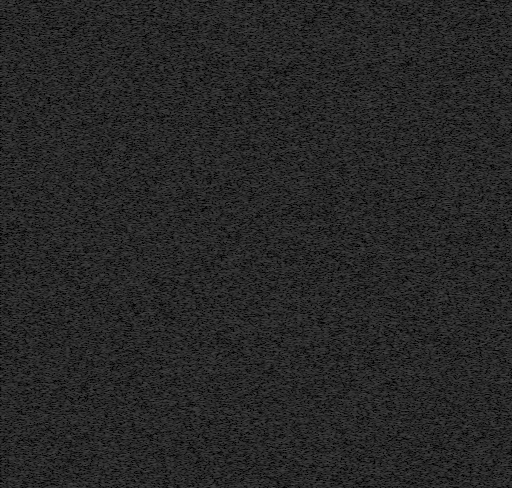wv_am: (145, 0, 151, 487), (409, 0, 414, 487)
wv_lsb: (81, 10, 86, 365), (81, 366, 86, 460), (81, 466, 86, 487), (81, 461, 86, 465)
wv_usb: (470, 12, 476, 487), (117, 234, 122, 282), (117, 200, 122, 220), (118, 28, 122, 51), (117, 101, 122, 117), (118, 180, 122, 199), (118, 68, 122, 86), (117, 52, 122, 65), (118, 382, 122, 398), (118, 457, 121, 478), (118, 302, 122, 317), (118, 137, 122, 150), (118, 120, 121, 136), (118, 87, 122, 99), (118, 365, 121, 380), (118, 337, 122, 348), (118, 222, 122, 233), (118, 163, 122, 173), (118, 399, 121, 412), (118, 11, 121, 24), (118, 436, 122, 445), (118, 152, 122, 161), (117, 294, 122, 301), (118, 446, 121, 456), (118, 413, 121, 423), (118, 318, 122, 325), (118, 286, 122, 293), (118, 327, 122, 333), (118, 349, 121, 356), (118, 479, 121, 485), (118, 430, 121, 435), (118, 425, 121, 429), (118, 174, 121, 178), (118, 361, 121, 364)
wv_wbfm: (39, 0, 60, 487), (235, 0, 255, 487)
